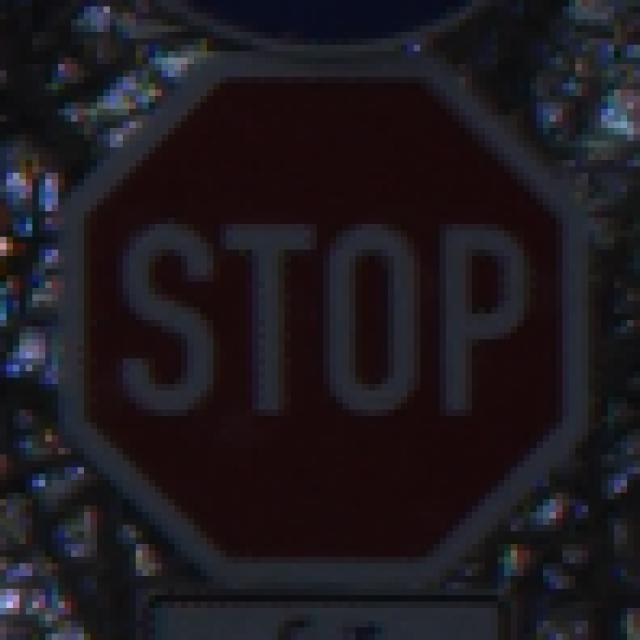stop: (54, 50, 597, 598)
